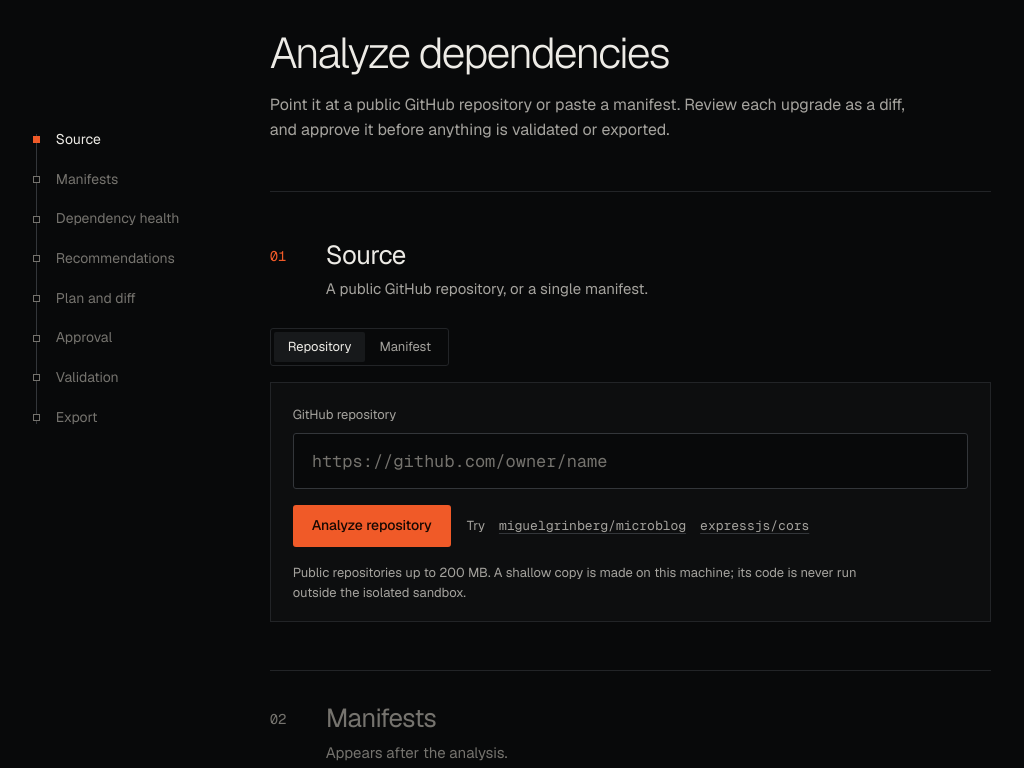
Test: ManifestAnalyzer Component › shows the error and parser diagnostics when analysis fails
Step 1. Click the tab with test id "source-manifest" → (405, 347), box [366,332,445,362]
(page scrolled)
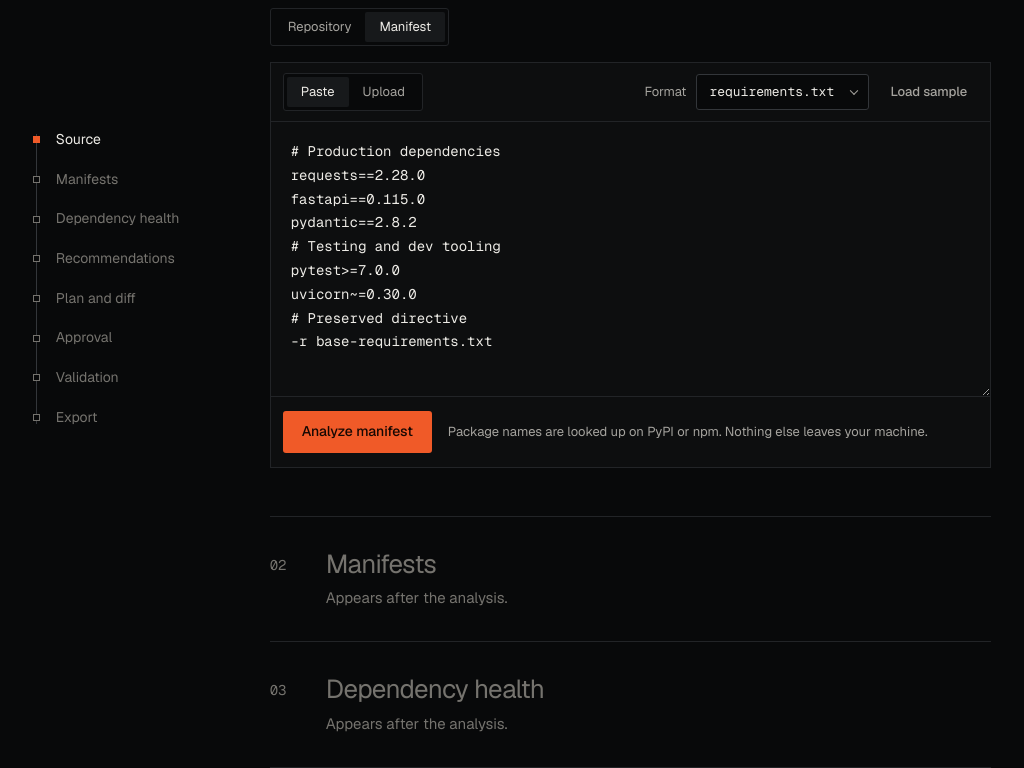
Step 2. Click the button with test id "btn-analyze" → (357, 432), box [283,411,432,453]
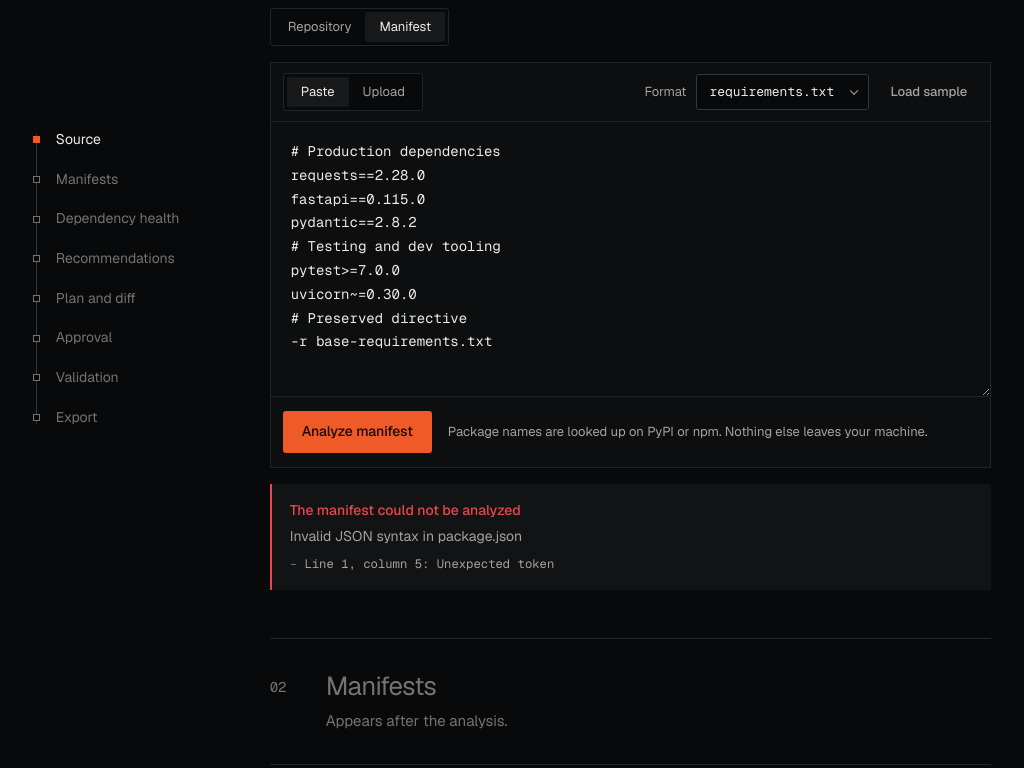
Check: the message with test id "error-banner" is shown, box [270,484,991,590]
Check: the text "Invalid JSON syntax in package.json" is shown, box [290,527,522,545]
Check: the list item "Line 1, column 5: Unexpected token" is shown, box [304,556,554,572]
